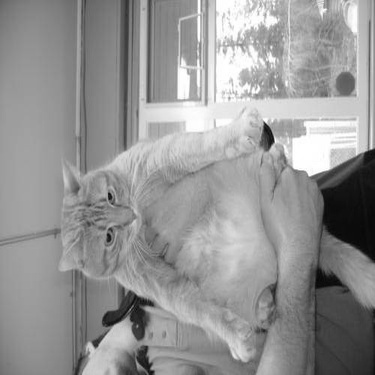cat: (54, 103, 366, 348)
